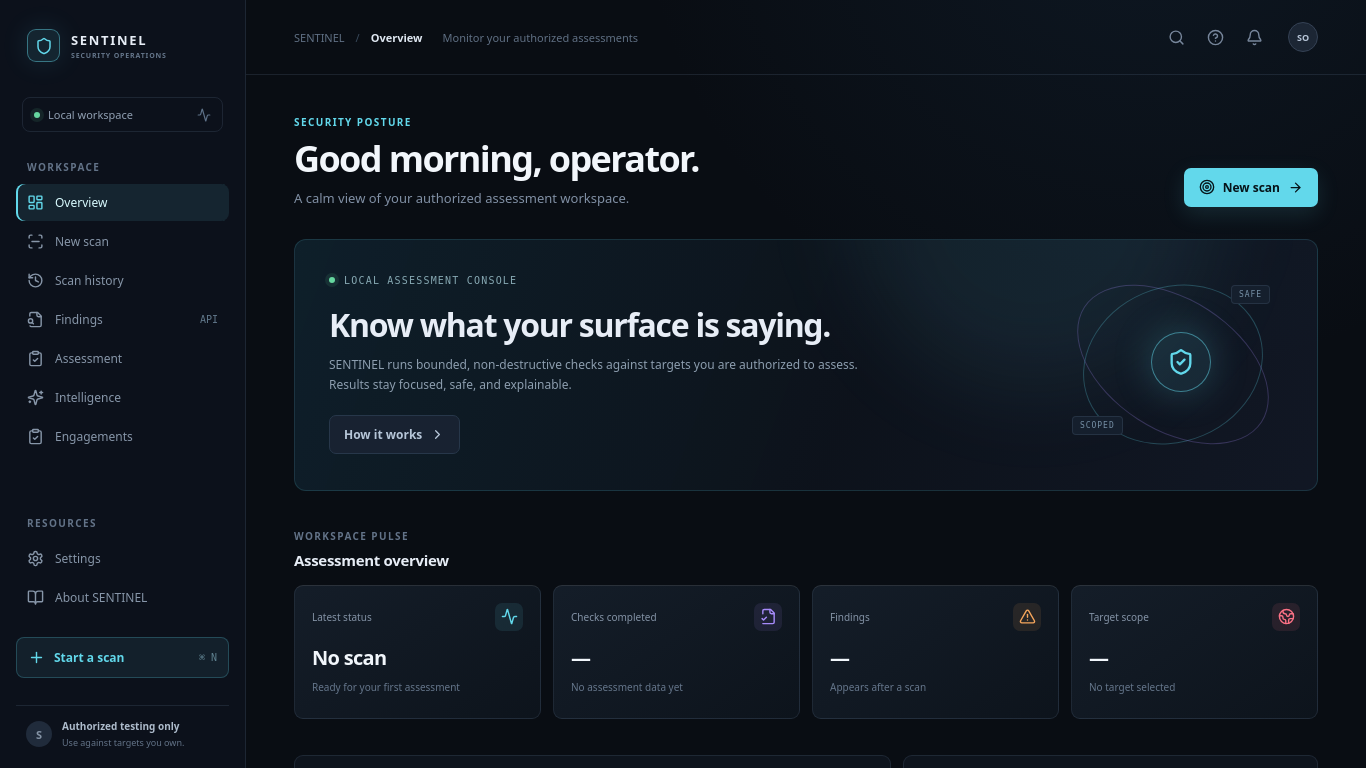
Test: SENTINEL dashboard flows › shows unavailable external tools without attempting a run
The image size is (1366, 768).
Click the button "Settings" at (122, 558), box [16,540,229,577]
(page scrolled)
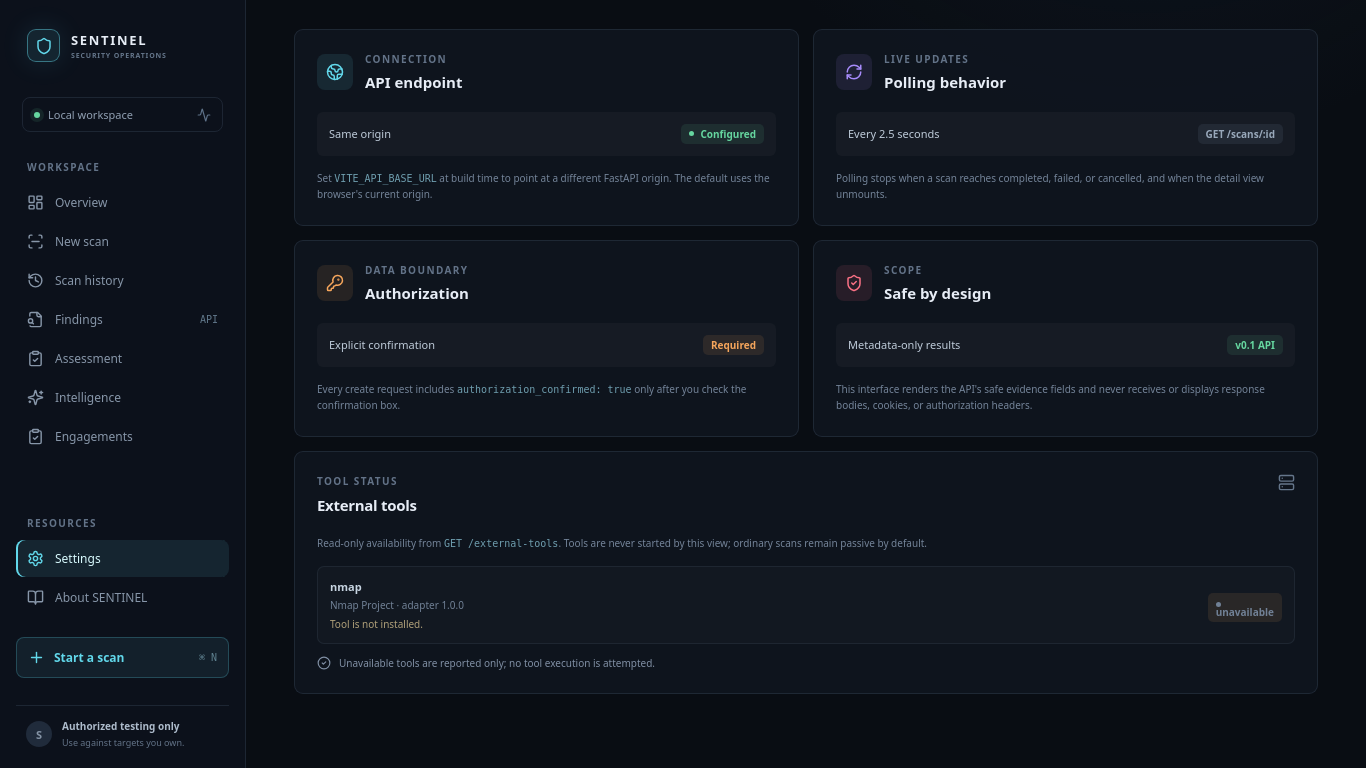
Expected: the text "nmap" is shown, [330,579,362,594]
Expected: the text "unavailable" is shown, [1208,593,1282,622]
Expected: the text "Tool is not installed." is shown, [330,617,423,631]
